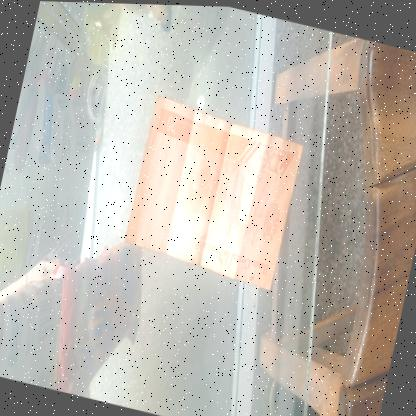vef_back: (120, 91, 308, 290)
